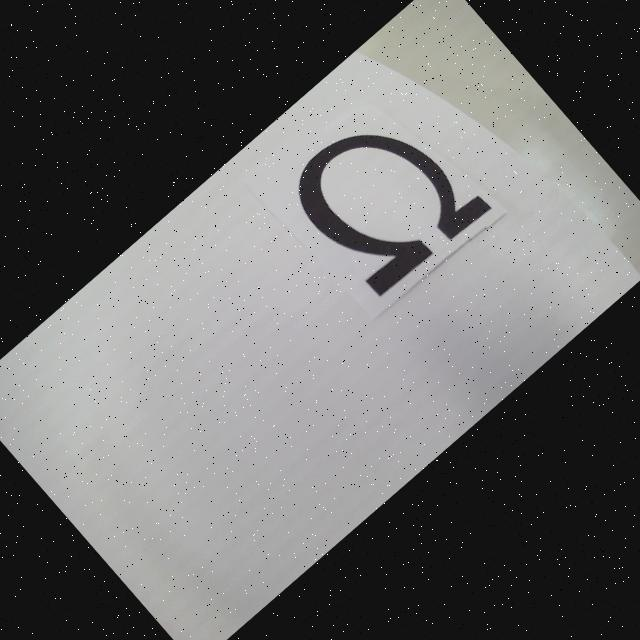OMEGA: (279, 89, 493, 304)
